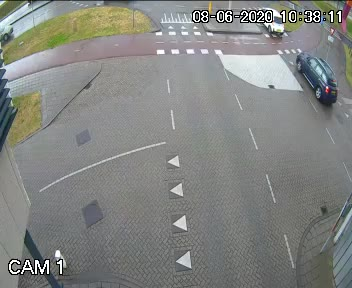car: (289, 46, 337, 103), (253, 3, 287, 39)
